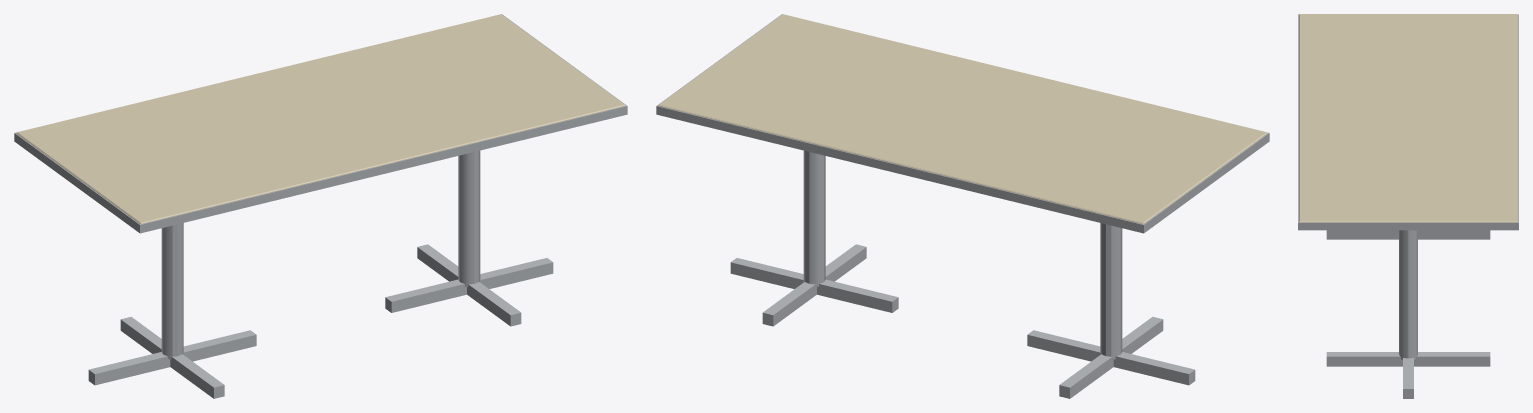
File: prop_diner_table_l180.glb
3 views of the same model, side by side, from view 1: azimuth 30°, elevation 25°; view 2: azimuth 150°, elevation 25°; view 3: azimuth 270°, elevation 25° (orthographic). The views are drawn at different scales.
Visible parts, largest first — view 1: Table; view 2: Table; view 3: Table.
Part boxes in pixels (<box>): Table: <box>14,14,627,398</box>; Table: <box>656,14,1269,398</box>; Table: <box>1298,14,1518,398</box>.
Size of what is drawn, in the model's own units: 1.81 by 0.74 by 0.808.
